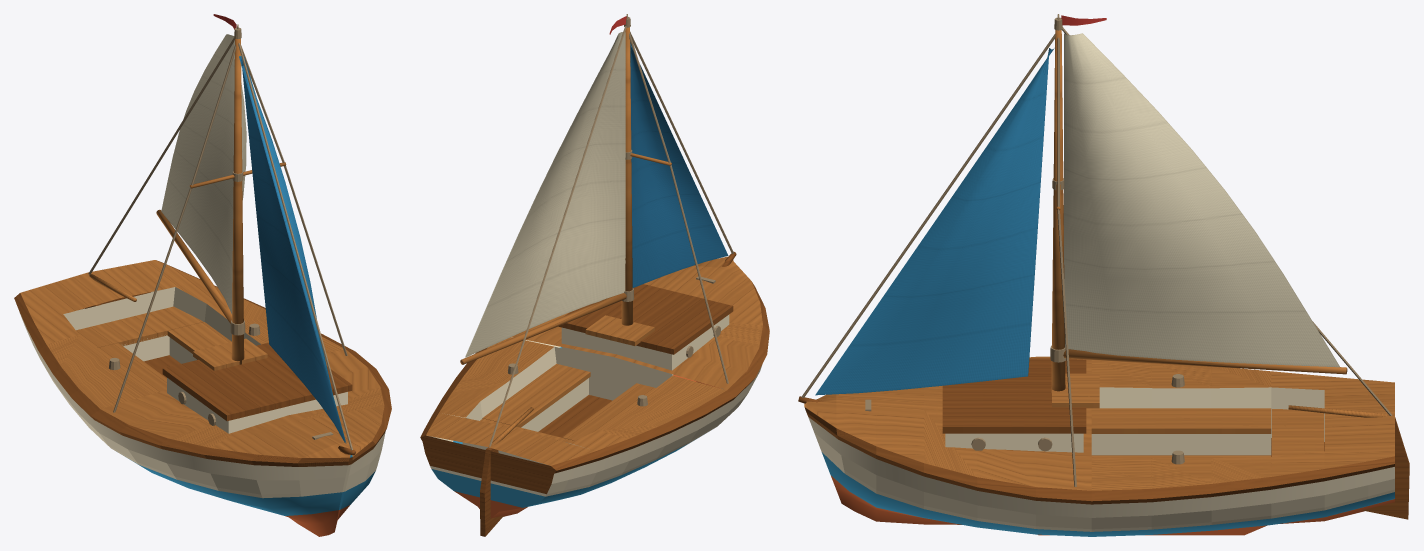
File: sailboat.glb
3 renders of one model, left to right at view 1: azimuth 30°, elevation 25°; view 2: azimuth 150°, elevation 25°; view 3: azimuth 270°, elevation 25°, orthographic. The views are drawn at different scales.
Visible parts, largest first — view 1: sailboat; view 2: sailboat; view 3: sailboat.
Part boxes in pixels (x1,y1,x2,y2): sailboat: (14,14,391,536); sailboat: (420,14,769,536); sailboat: (798,14,1409,536).
Size of the model in its own units: 2.57 by 4.3 by 4.6.
Materials: 4 (2 with a texture image).
